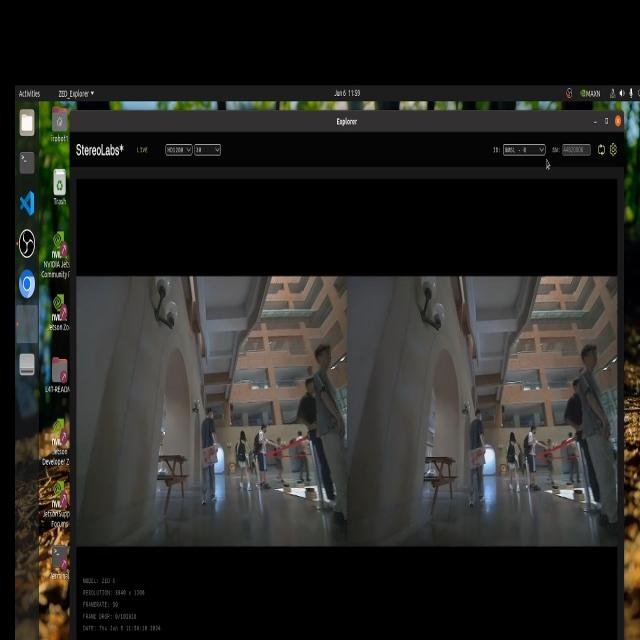red: (200, 445, 217, 474), (467, 444, 485, 470)
